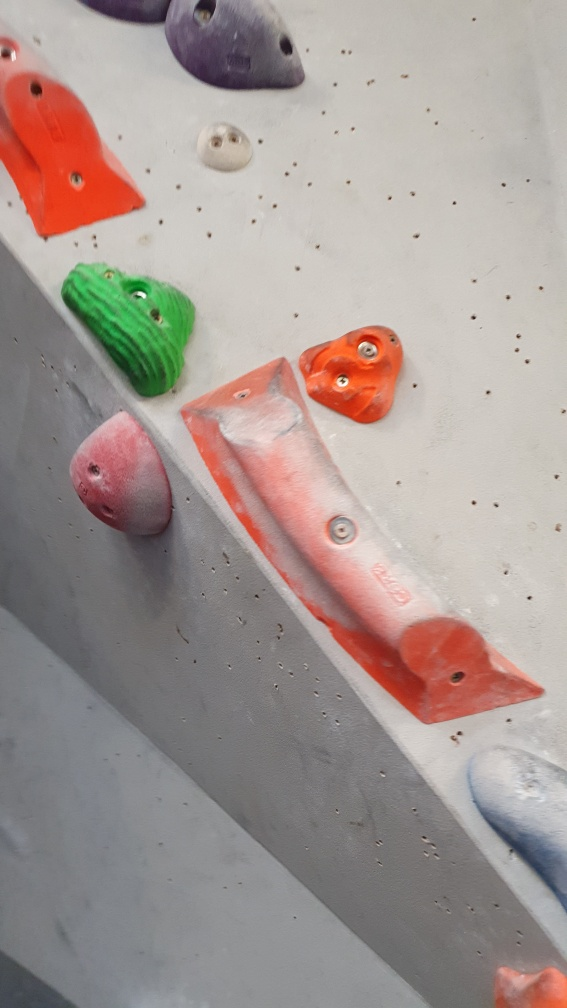Jug: (60, 253, 195, 402), (161, 1, 311, 92)
Pinch: (175, 354, 546, 727), (1, 16, 145, 241), (461, 734, 567, 902)
Sloper: (65, 409, 176, 543)
